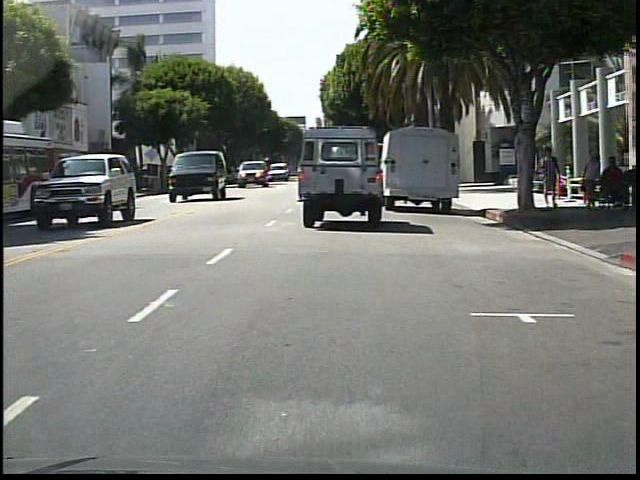person: (541, 143, 563, 209), (582, 150, 604, 209)
